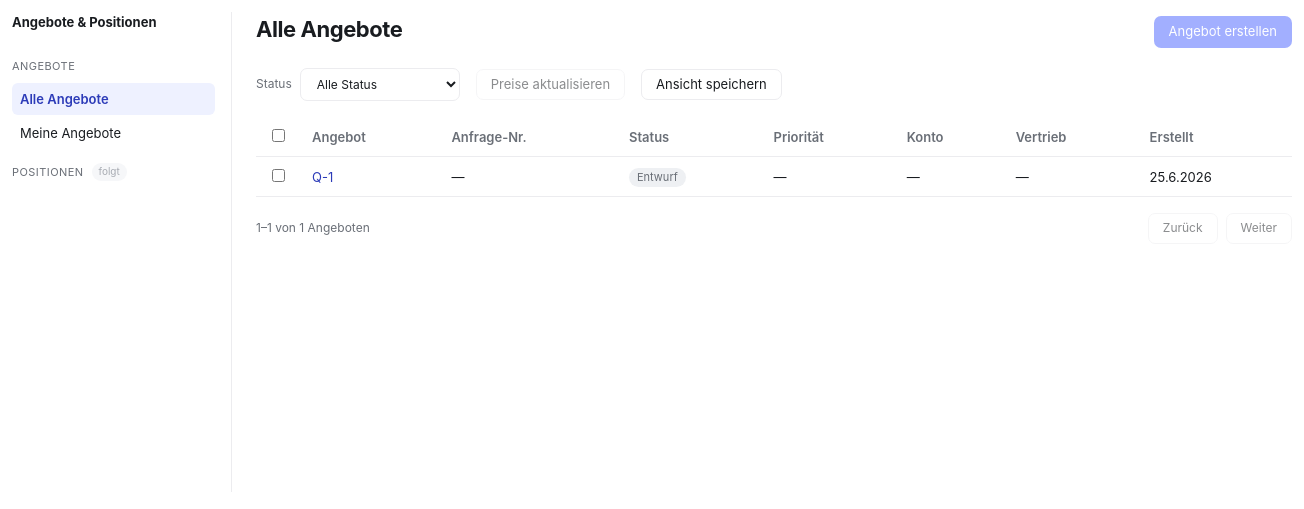
it: QuotesPage › reports the queued message when bulk refresh runs async
Expected: the link "Q-1" is shown, [312,169,333,185]
Click the checkbox named "Alle auswählen". click: (278, 136)
box: [272,129,285,142]
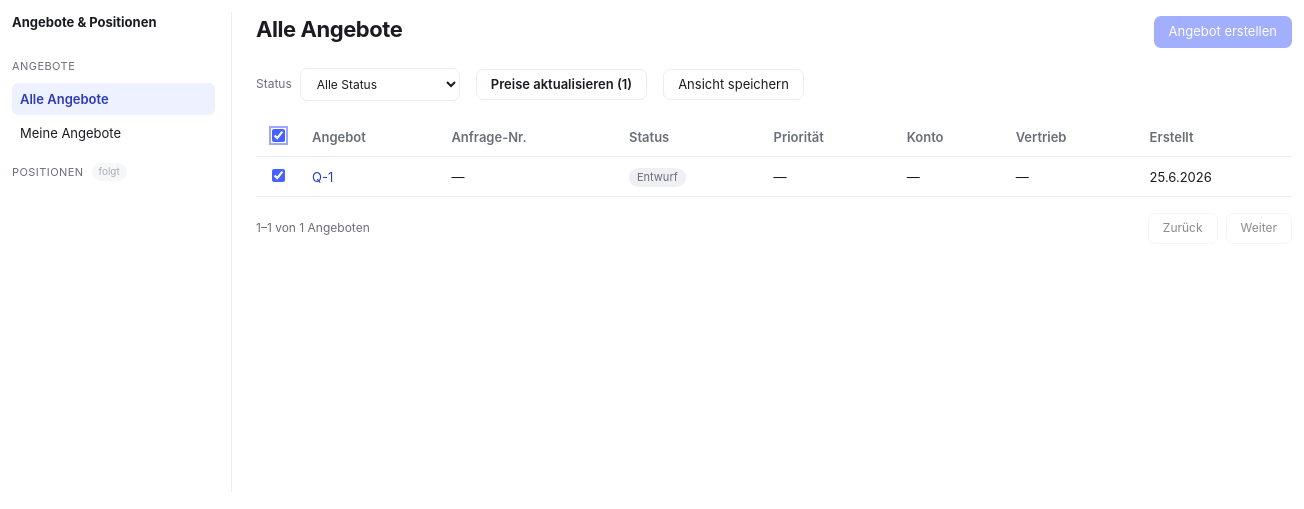
Click the button "Preise aktualisieren (1)". click: (562, 85)
box: [476,69,647,100]
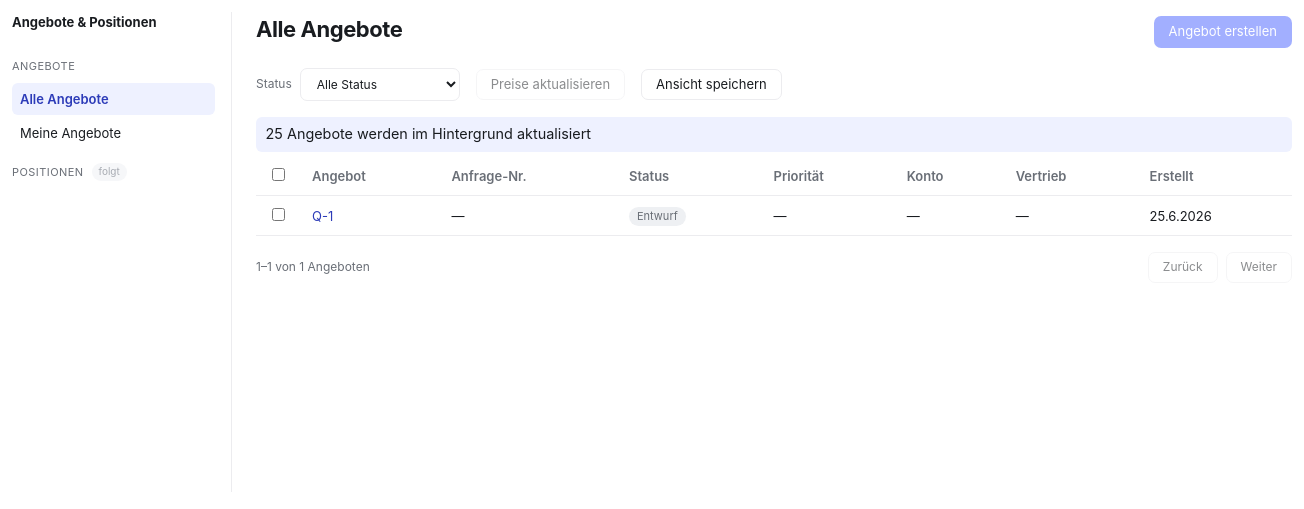
Result: the text "25 Angebote werden im Hintergrund aktualisiert" is shown at [256,117,1292,152]
